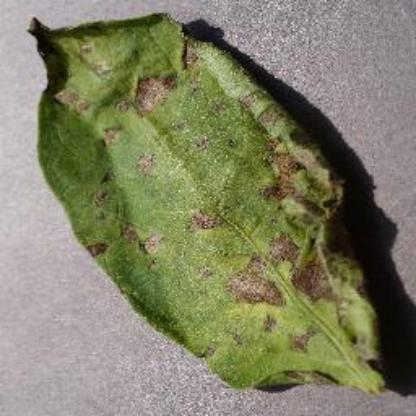Early-Blight: (22, 13, 390, 399)
